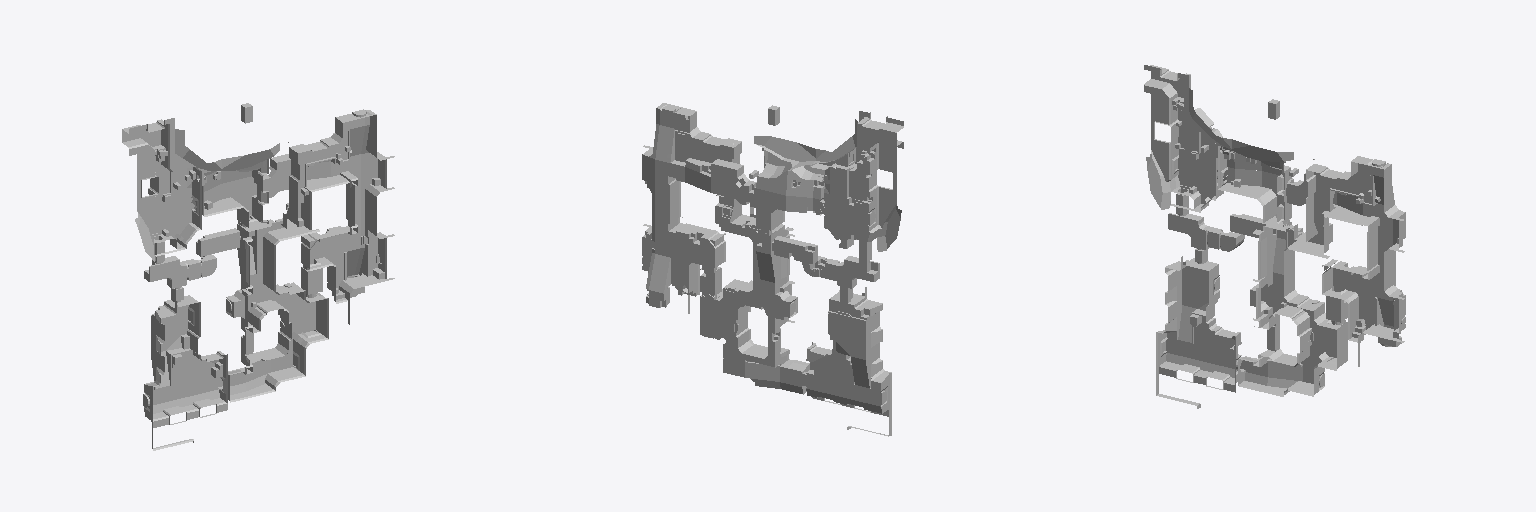
File: de_dust2.obj
3 views of the same model, side by side, from view 1: azimuth 30°, elevation 25°; view 2: azimuth 150°, elevation 25°; view 3: azimuth 330°, elevation 25° (orthographic).
Parts seen in each view (by area): view 1: material_1, material_10, material_5, material_0, material_22, material_4, material_6, material_11; view 2: material_5, material_1, material_10, material_22, material_6, material_11, material_0, material_4; view 3: material_1, material_5, material_10, material_0, material_22, material_4, material_11, material_6.
Part boxes in pixels (left/top/right/bottom): material_1: left=123, top=110, right=393, bottom=448; material_10: left=122, top=118, right=379, bottom=427; material_5: left=153, top=118, right=364, bottom=404; material_0: left=128, top=114, right=394, bottom=450; material_22: left=153, top=203, right=300, bottom=413; material_4: left=148, top=123, right=384, bottom=413; material_6: left=153, top=116, right=377, bottom=288; material_11: left=135, top=129, right=288, bottom=261; material_5: left=649, top=109, right=881, bottom=406; material_1: left=642, top=104, right=902, bottom=436; material_10: left=642, top=111, right=903, bottom=416; material_22: left=715, top=206, right=881, bottom=413; material_6: left=642, top=108, right=869, bottom=303; material_11: left=733, top=119, right=901, bottom=251; material_0: left=644, top=103, right=903, bottom=435; material_4: left=670, top=121, right=883, bottom=366; material_1: left=1146, top=65, right=1405, bottom=407; material_5: left=1166, top=145, right=1393, bottom=383; material_10: left=1144, top=65, right=1398, bottom=392; material_0: left=1144, top=69, right=1403, bottom=408; material_22: left=1166, top=231, right=1332, bottom=388; material_4: left=1163, top=71, right=1405, bottom=392; material_11: left=1146, top=88, right=1297, bottom=209; material_6: left=1178, top=149, right=1398, bottom=329.
Size of the model in its own units: 4480 by 5312 by 608.